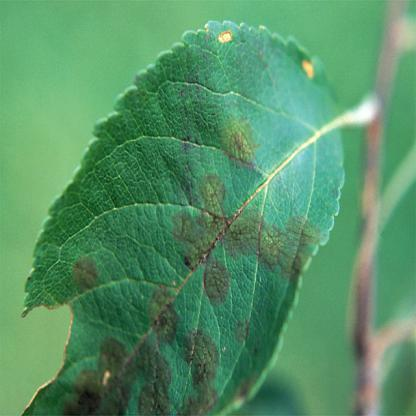Apple Scab Leaf: (13, 8, 352, 415)
